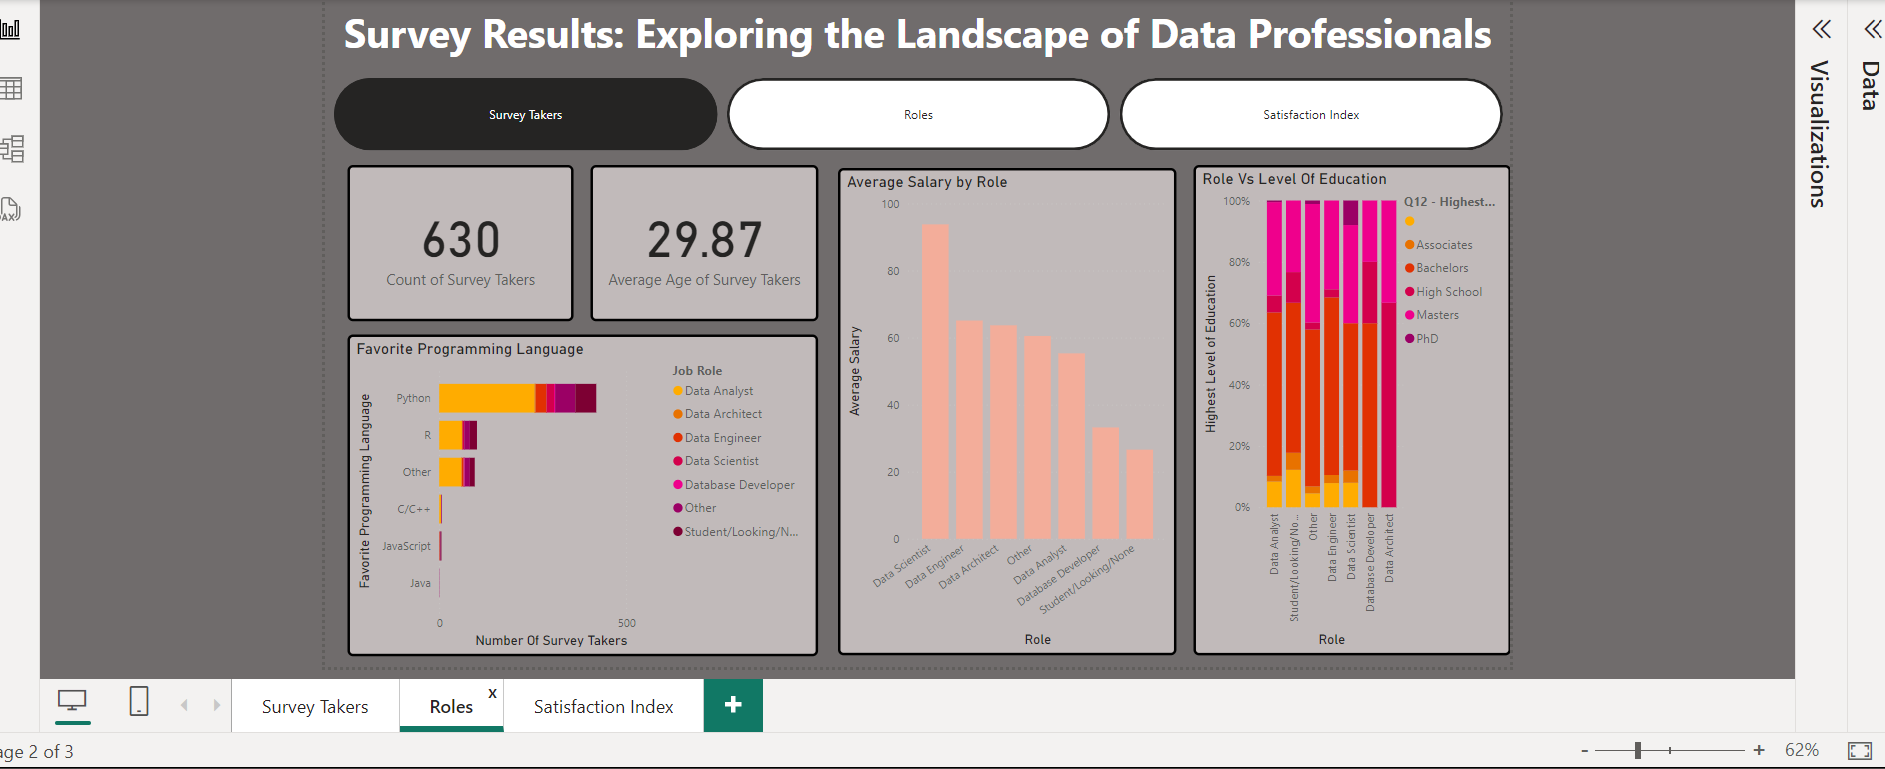

What the dashboard file says about the page in this screenshot:
{"tool":"powerbi","page":{"name":"Roles","canvas":[1280,720],"ordinal":1},"visuals":[{"type":"textbox","box":[0,0,1279.4,84.1],"z":0},{"type":"card","fields":{"Values":["Count(Data Professional Survey.Unique ID)"]},"box":[24.6,178.7,244.3,168.9],"z":1000},{"type":"card","fields":{"Values":["Avg(Data Professional Survey.Q10 - Current Age)"]},"box":[286.9,178.7,245.9,168.9],"z":2000},{"type":"barChart","title":"Favorite Programming Language","fields":{"Category":["Data Professional Survey.Q5 - Favorite Programming Language.1.1"],"Y":["Count(Data Professional Survey.Unique ID)"],"Series":["Data Professional Survey.Q1 - Which Title Best Fits your Current Role?.1"]},"box":[24.6,360.7,508.2,347.5],"z":3000},{"type":"clusteredColumnChart","title":"Average Salary by Role","fields":{"Category":["Data Professional Survey.Q1 - Which Title Best Fits your Current Role?.1"],"Y":["Avg(Data Professional Survey.Average Salary)"]},"box":[554.1,182,365.6,526.2],"z":4000},{"type":"hundredPercentStackedColumnChart","title":"Role Vs Level Of Education","fields":{"Category":["Data Professional Survey.Q1 - Which Title Best Fits your Current Role?.1"],"Y":["CountNonNull(Data Professional Survey.Q12 - Highest Level of Education)"],"Series":["Data Professional Survey.Q12 - Highest Level of Education"]},"box":[937.7,178.7,342.6,529.5],"z":5000},{"type":"bookmarkNavigator","box":[9.8,83.6,1262.3,78.7],"z":6000}]}

Visuals, with their boxes on the page's 1280x720 design canvas (x1, y1, x2, y2). These are canvas units, not pixel positions in the 1885x769 screenshot, which may show the page scaled, cropped or inside an application window:
textbox: bbox=(0, 0, 1279, 84)
card - Count(Data Professional Survey.Unique ID): bbox=(25, 179, 269, 348)
card - Avg(Data Professional Survey.Q10 - Current Age): bbox=(287, 179, 533, 348)
"Favorite Programming Language" barChart: bbox=(25, 361, 533, 708)
"Average Salary by Role" clusteredColumnChart: bbox=(554, 182, 920, 708)
"Role Vs Level Of Education" hundredPercentStackedColumnChart: bbox=(938, 179, 1280, 708)
bookmarkNavigator: bbox=(10, 84, 1272, 162)
